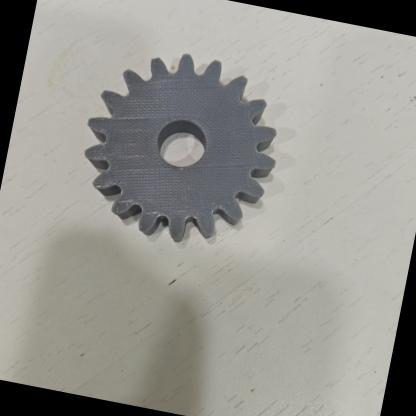gear: (69, 38, 292, 257)
